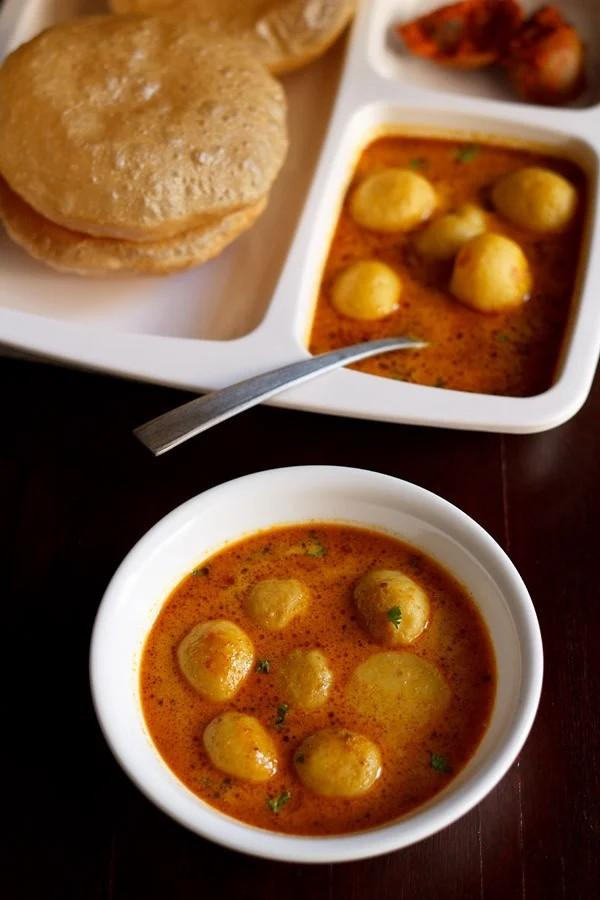DumAloo: (143, 526, 491, 836)
